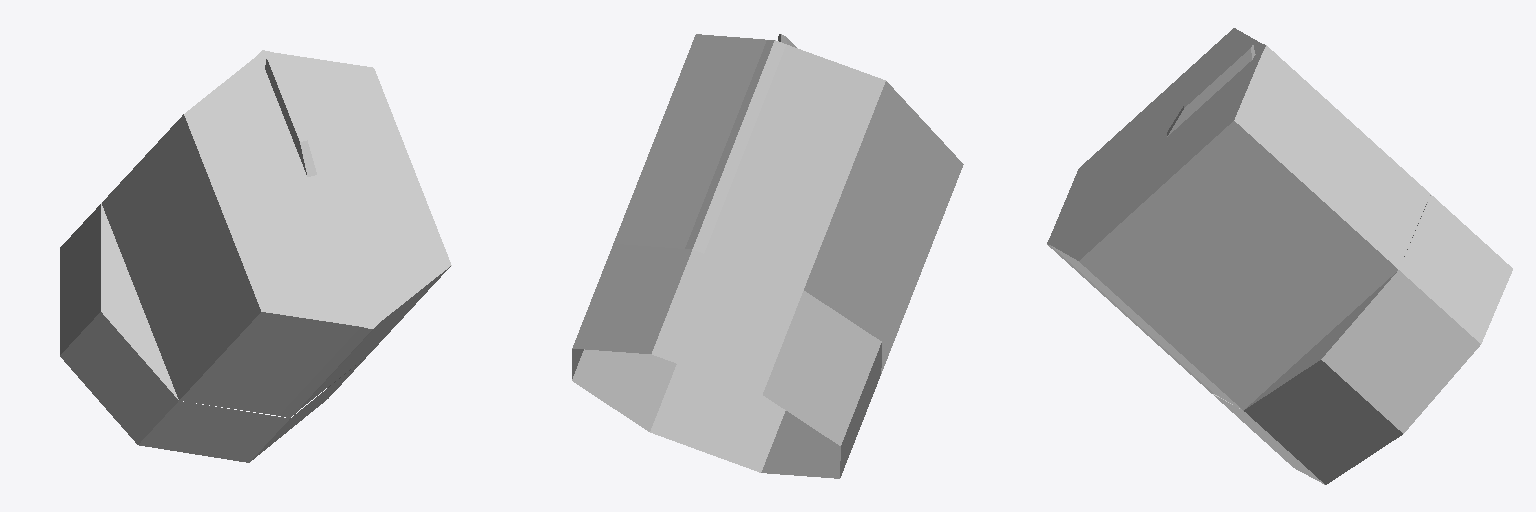
The model's file is BackLeftBurnerKnob.obj.
3 views of the same model, side by side, from view 1: azimuth 30°, elevation 25°; view 2: azimuth 150°, elevation 25°; view 3: azimuth 270°, elevation 25° (orthographic).
Parts seen in each view (by area): view 1: Front_Left_Dial_geo Dials_grp Stove_grp; view 2: Front_Left_Dial_geo Dials_grp Stove_grp; view 3: Front_Left_Dial_geo Dials_grp Stove_grp.
Boxes of the visible parts, box(x1,y1,x2,y2) form: Front_Left_Dial_geo Dials_grp Stove_grp: box(60, 50, 451, 462); Front_Left_Dial_geo Dials_grp Stove_grp: box(572, 34, 963, 478); Front_Left_Dial_geo Dials_grp Stove_grp: box(1047, 28, 1512, 484).
Bounding box in the file's own units: 8.15 × 12.27 × 12.24.